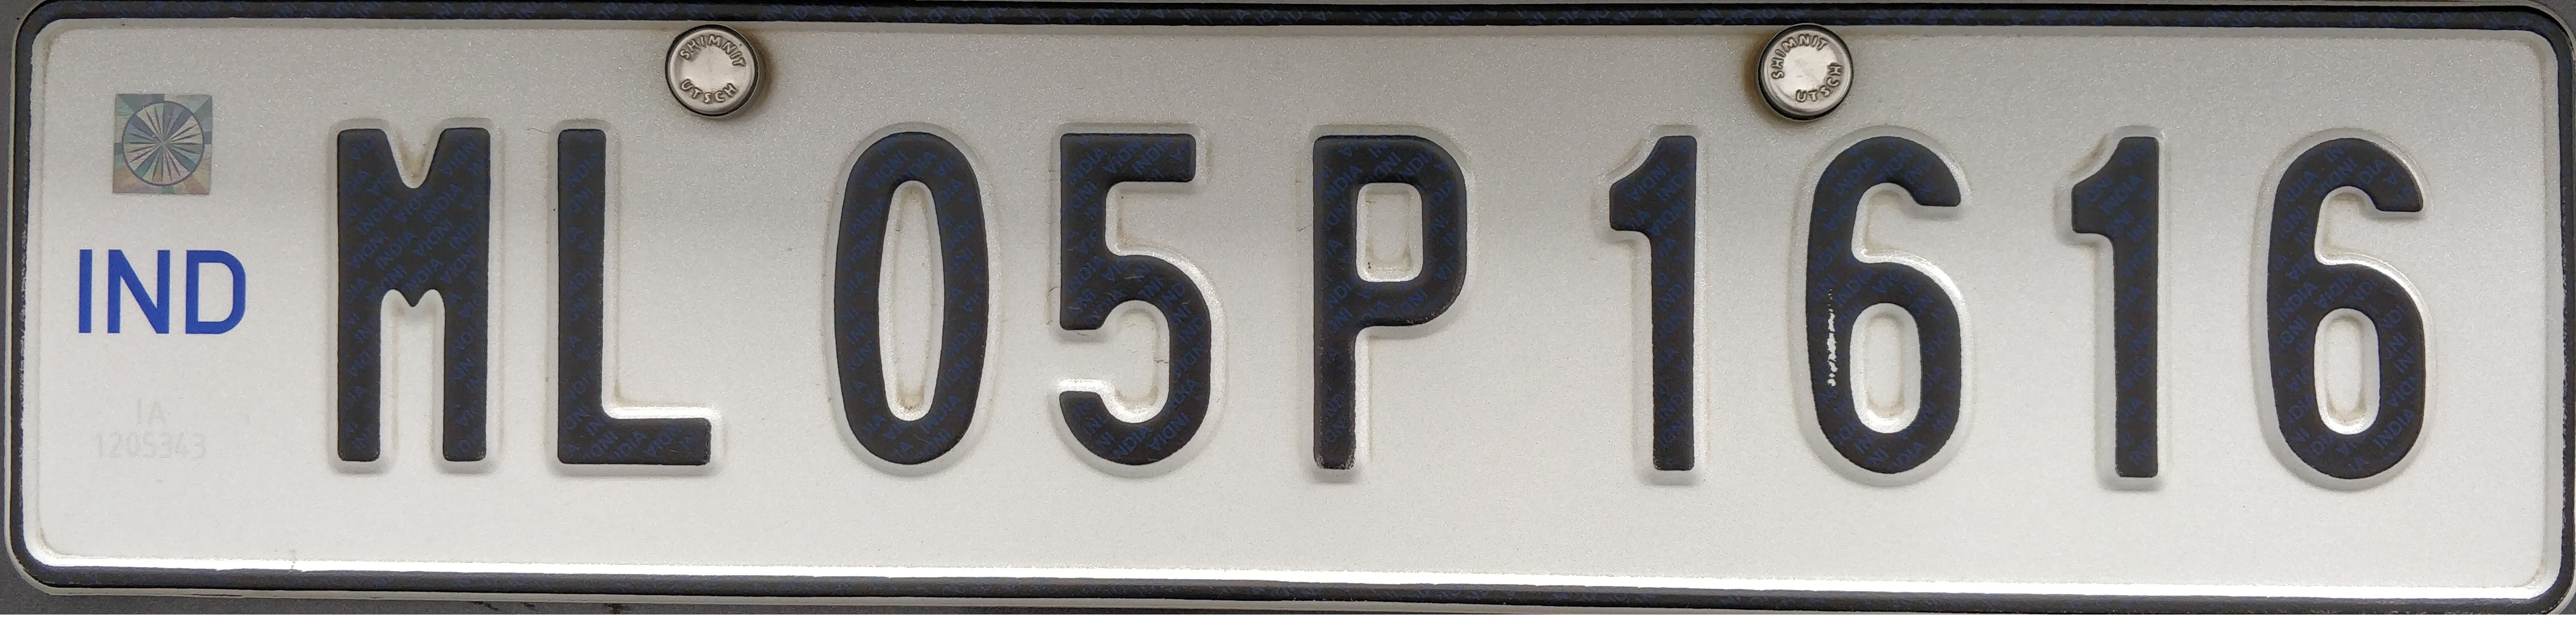numberplate: (18, 7, 2571, 608)
